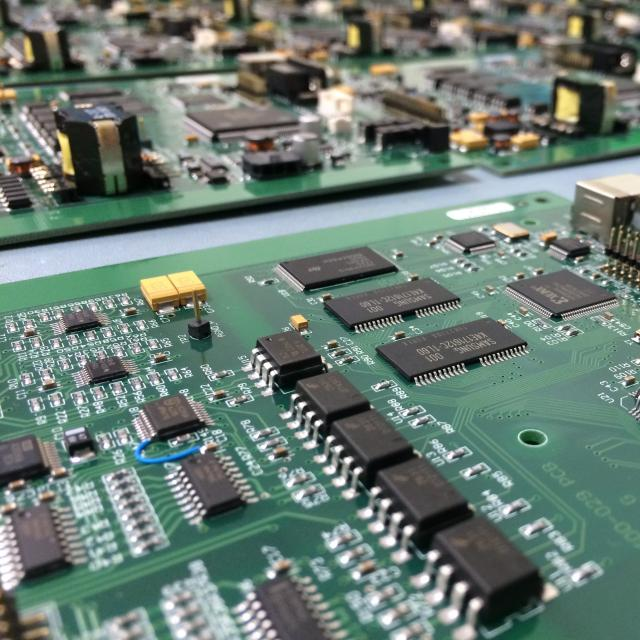pcb: (1, 185, 640, 639), (1, 0, 639, 248), (426, 514, 544, 622), (374, 316, 528, 384), (54, 100, 145, 197), (570, 172, 639, 248), (249, 329, 326, 389), (240, 131, 324, 180), (363, 118, 450, 154), (265, 56, 327, 105), (20, 24, 72, 72)
